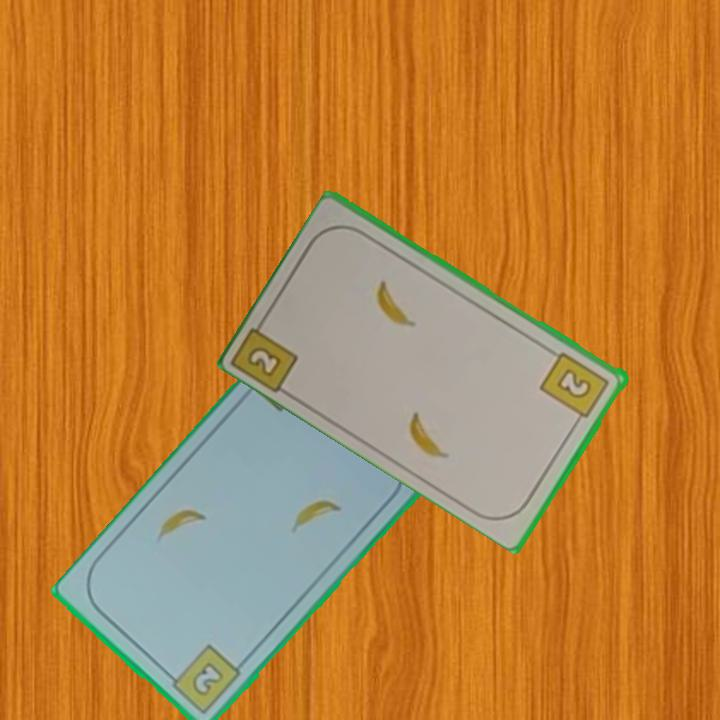2b: (163, 642, 244, 719), (537, 348, 613, 427), (231, 311, 302, 395)
